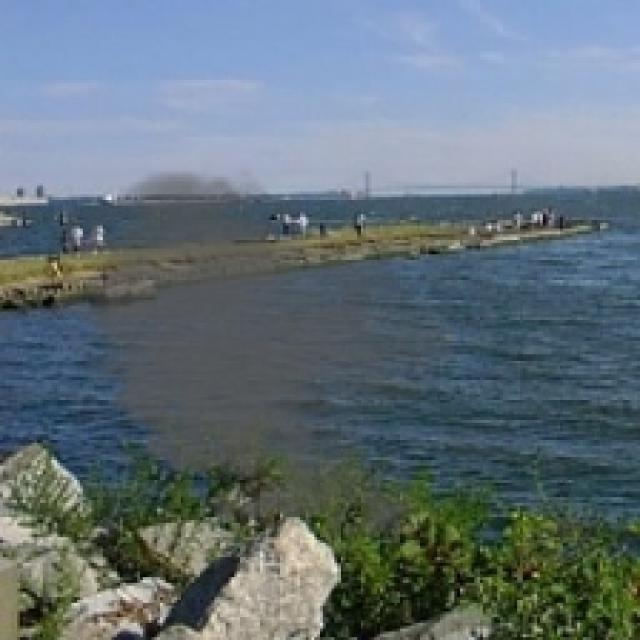smoke: (52, 163, 454, 551)
